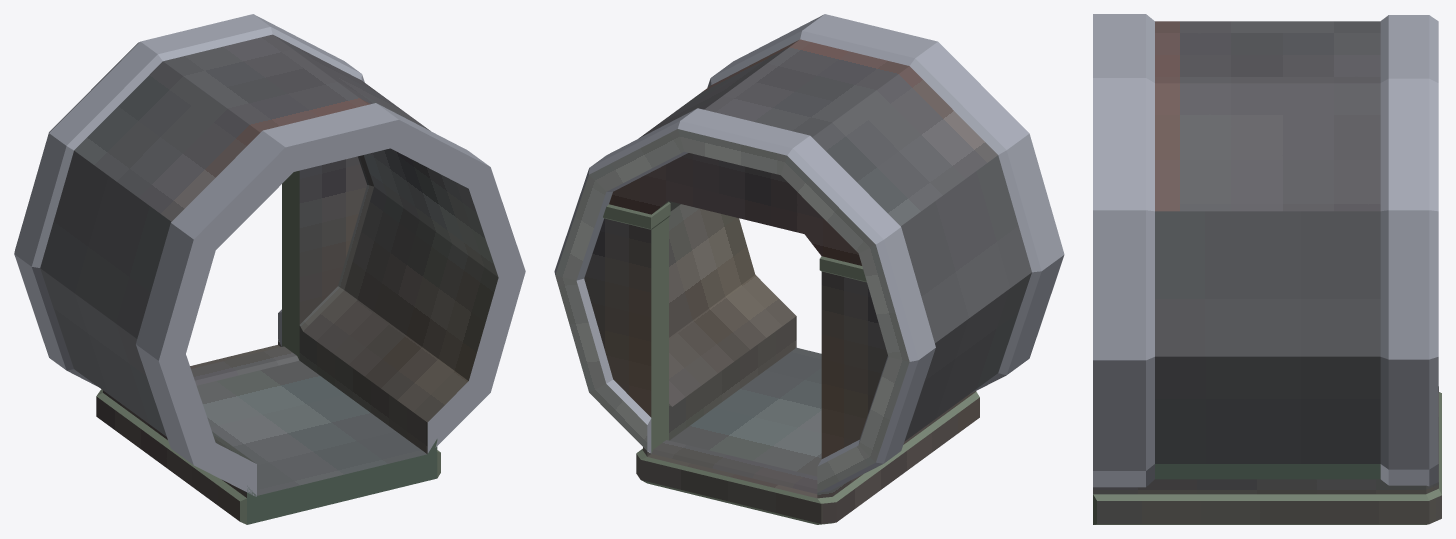
The model's file is entity113106.glb.
The picture shows the model from 3 angles, left to right: view 1: azimuth 30°, elevation 25°; view 2: azimuth 150°, elevation 25°; view 3: azimuth 270°, elevation 25°; orthographic projection. The views are drawn at different scales.
Parts seen in each view (by area): view 1: node_SM_Bld_Pod_Air_Lock_01 (6); view 2: node_SM_Bld_Pod_Air_Lock_01 (6); view 3: node_SM_Bld_Pod_Air_Lock_01 (6).
Boxes of the visible parts, bbox=[...] form: node_SM_Bld_Pod_Air_Lock_01 (6): bbox=[14, 14, 525, 524]; node_SM_Bld_Pod_Air_Lock_01 (6): bbox=[554, 14, 1064, 524]; node_SM_Bld_Pod_Air_Lock_01 (6): bbox=[1093, 14, 1441, 524].
Bounding box in the file's own units: 3.87 × 3.71 × 2.76.
1 material, 1 textured.
